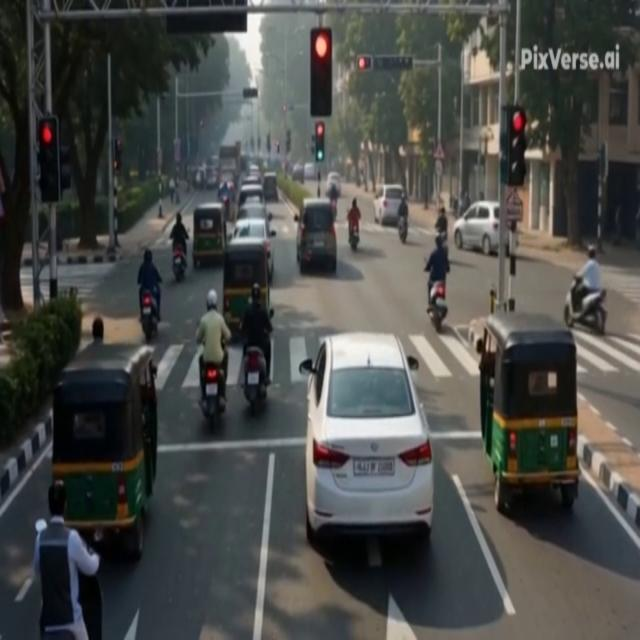car: (299, 333, 433, 544), (294, 199, 337, 273), (230, 219, 275, 281), (453, 200, 499, 255), (374, 184, 404, 225), (237, 201, 272, 222), (238, 185, 264, 208), (263, 173, 278, 202), (326, 172, 341, 197), (291, 164, 304, 183), (304, 163, 316, 181), (242, 175, 261, 186), (249, 164, 260, 175)
scooty: (564, 276, 607, 335), (242, 347, 268, 414), (78, 572, 102, 639), (201, 364, 225, 430), (428, 282, 447, 333), (141, 291, 158, 342), (172, 242, 187, 282), (349, 226, 359, 251), (398, 216, 407, 243)
traffic signal: (310, 28, 332, 117), (38, 116, 60, 203), (507, 105, 527, 186), (59, 144, 71, 197), (315, 122, 324, 161), (113, 138, 123, 172), (357, 56, 372, 71), (265, 133, 271, 154), (286, 130, 291, 153), (311, 134, 315, 155), (276, 142, 280, 154), (200, 120, 204, 127)
truck: (219, 145, 239, 183)
